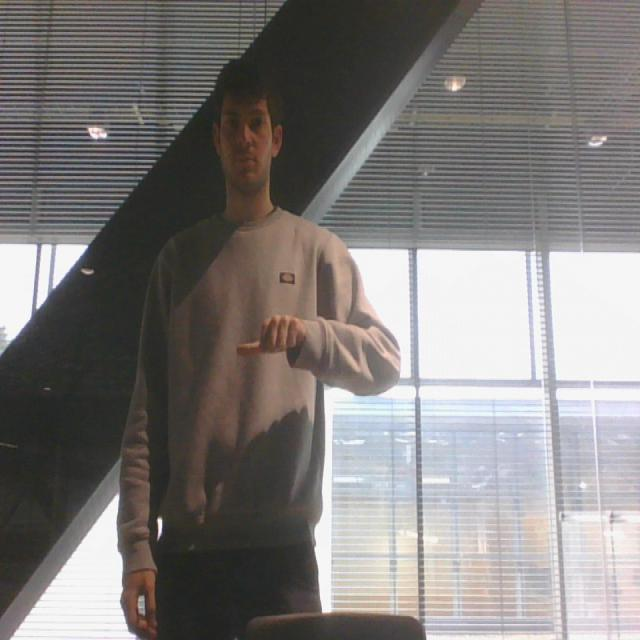left: (227, 307, 312, 369)
